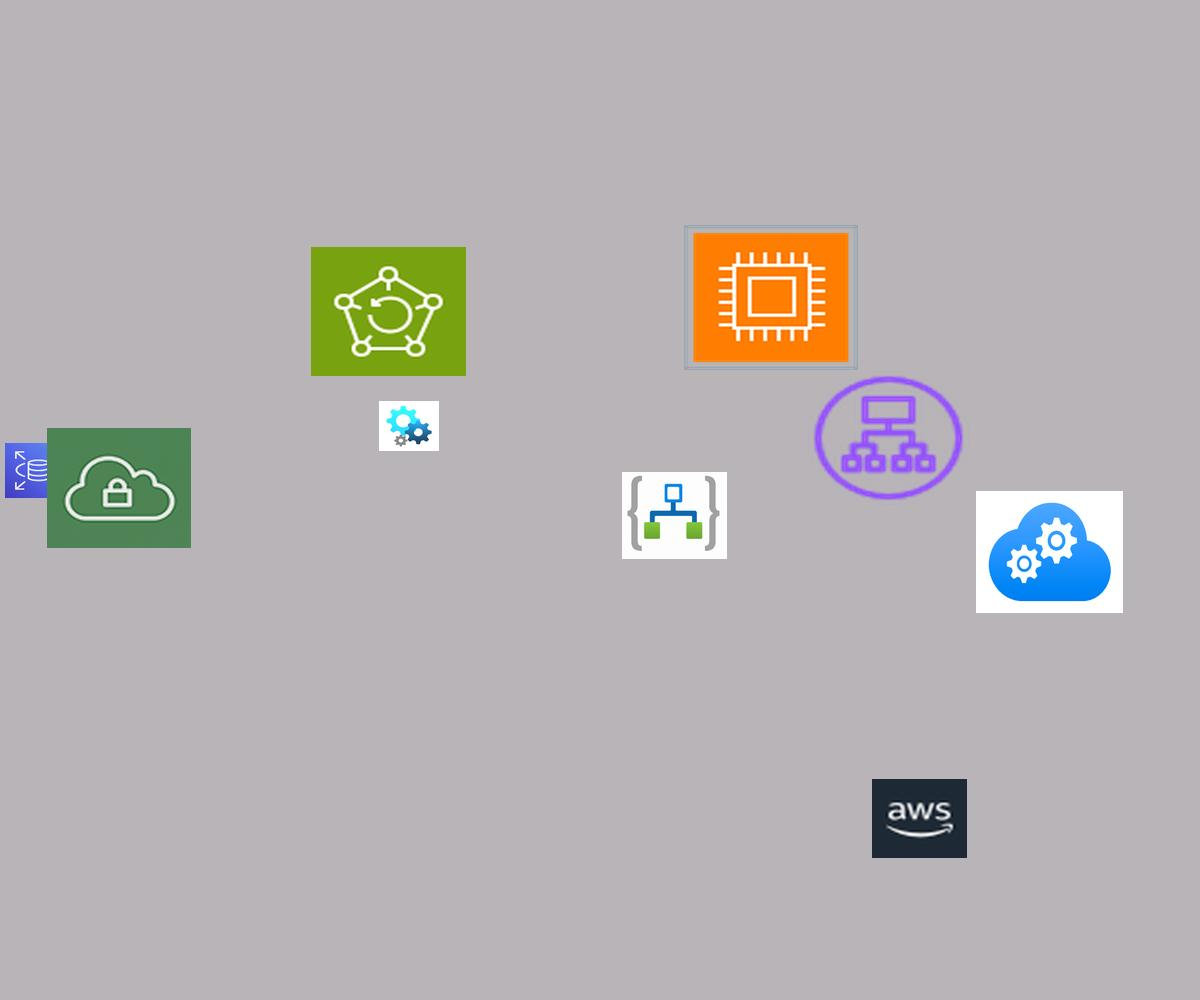AWS-Backup: (311, 247, 466, 376)
AWS-Category_Compute: (684, 225, 858, 370)
AWS-Cloud-logo: (872, 779, 967, 858)
AWS-Private_vpc: (47, 428, 191, 548)
AWS-RDS: (5, 443, 72, 498)
AWS-Res_Elastic-Load-Balancing_Application-Load-Balancer: (808, 371, 969, 505)
Azure_api: (379, 401, 439, 451)
Azure_cloud_services: (976, 491, 1123, 613)
Azure_integration-204-Logic-Apps: (622, 472, 727, 559)
